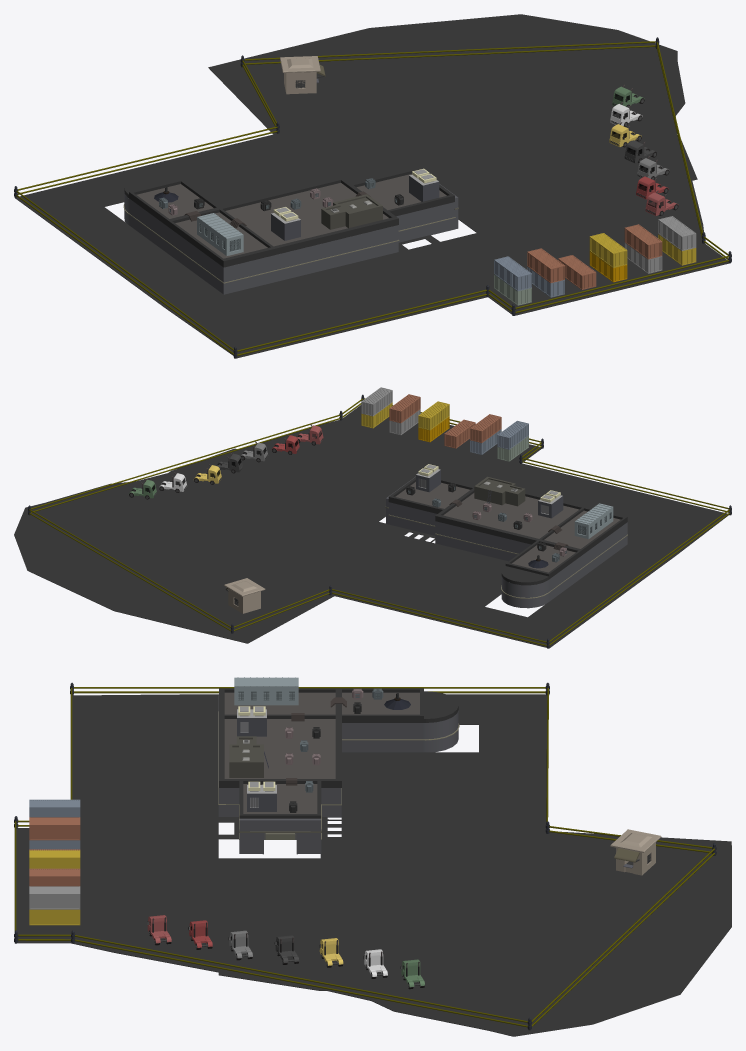
Rendered from facilityV2.fbx.
3 renders of one model, top to bottom at view 1: azimuth 30°, elevation 25°; view 2: azimuth 150°, elevation 25°; view 3: azimuth 270°, elevation 25°, orthographic. The views are drawn at different scales.
Visible parts, largest first — view 1: polySurface513, polySurface1222, polySurface1223, polySurface1232, polySurface2082, polySurface1225, polySurface429, polySurface2700, polySurface702, pCube184, pCube183, pCube185 (+7 smaller); view 2: polySurface513, polySurface1222, polySurface1229, polySurface1232, polySurface1231, polySurface2082, polySurface1227, polySurface429, polySurface2700, polySurface702, pCube184, pCube185 (+5 smaller); view 3: polySurface513, polySurface1222, polySurface1226, polySurface1230, polySurface2700, polySurface429, polySurface2082, polySurface702, pCube184, pCube182, polySurface1231, pCube183 (+6 smaller).
Boxes of the visible parts, bbox=[...] form: polySurface513: bbox=[14, 14, 731, 358]; polySurface1222: bbox=[124, 168, 454, 267]; polySurface1223: bbox=[222, 226, 396, 294]; polySurface1232: bbox=[129, 199, 221, 292]; polySurface2082: bbox=[321, 194, 382, 229]; polySurface1225: bbox=[396, 202, 455, 242]; polySurface429: bbox=[280, 56, 325, 94]; polySurface2700: bbox=[197, 213, 243, 255]; polySurface702: bbox=[184, 191, 370, 240]; pCube184: bbox=[658, 216, 696, 250]; pCube183: bbox=[589, 233, 627, 267]; pCube185: bbox=[624, 224, 662, 259]; polySurface513: bbox=[14, 394, 731, 648]; polySurface1222: bbox=[388, 477, 627, 585]; polySurface1229: bbox=[437, 522, 530, 561]; polySurface1232: bbox=[549, 523, 626, 601]; polySurface1231: bbox=[501, 576, 549, 608]; polySurface2082: bbox=[474, 476, 525, 506]; polySurface1227: bbox=[388, 502, 436, 535]; polySurface429: bbox=[224, 578, 265, 613]; polySurface2700: bbox=[574, 503, 613, 539]; polySurface702: bbox=[449, 490, 568, 550]; pCube184: bbox=[361, 387, 392, 416]; pCube185: bbox=[389, 394, 420, 423]; polySurface513: bbox=[14, 682, 731, 1036]; polySurface1222: bbox=[219, 688, 458, 818]; polySurface1226: bbox=[239, 818, 321, 854]; polySurface1230: bbox=[342, 723, 423, 752]; polySurface2700: bbox=[234, 677, 298, 705]; polySurface429: bbox=[610, 829, 661, 875]; polySurface2082: bbox=[229, 736, 268, 777]; polySurface702: bbox=[237, 697, 346, 785]; pCube184: bbox=[29, 886, 80, 909]; pCube182: bbox=[29, 817, 80, 840]; polySurface1231: bbox=[423, 710, 459, 752]; pCube183: bbox=[29, 850, 80, 868].
Size of the model in its own units: 1975 by 153 by 1750.
